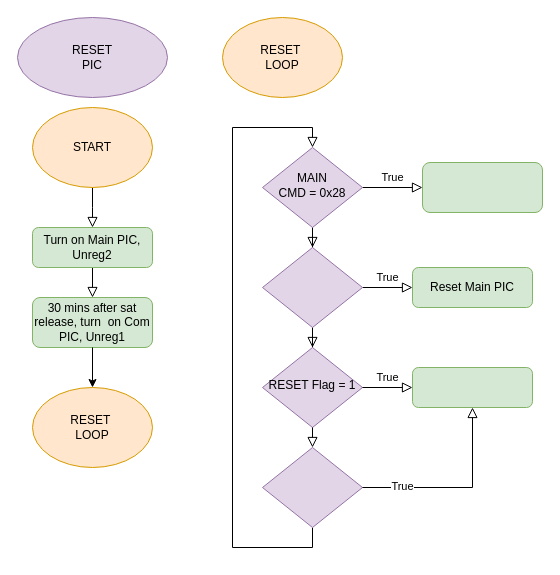
Image size: 560x575. Some labels were removed from this diagram. The shapes that lost their labels are listed below. From the top down, each one's box as (x1, y1, x2, y2) in pixels, then its label:
(422, 162, 542, 212): Send REST data to Main PIC
(262, 246, 362, 328): MAIN Count = 3600s
(412, 366, 532, 408): Reset satellite
(262, 446, 362, 528): MAIN CMD = 0x27
